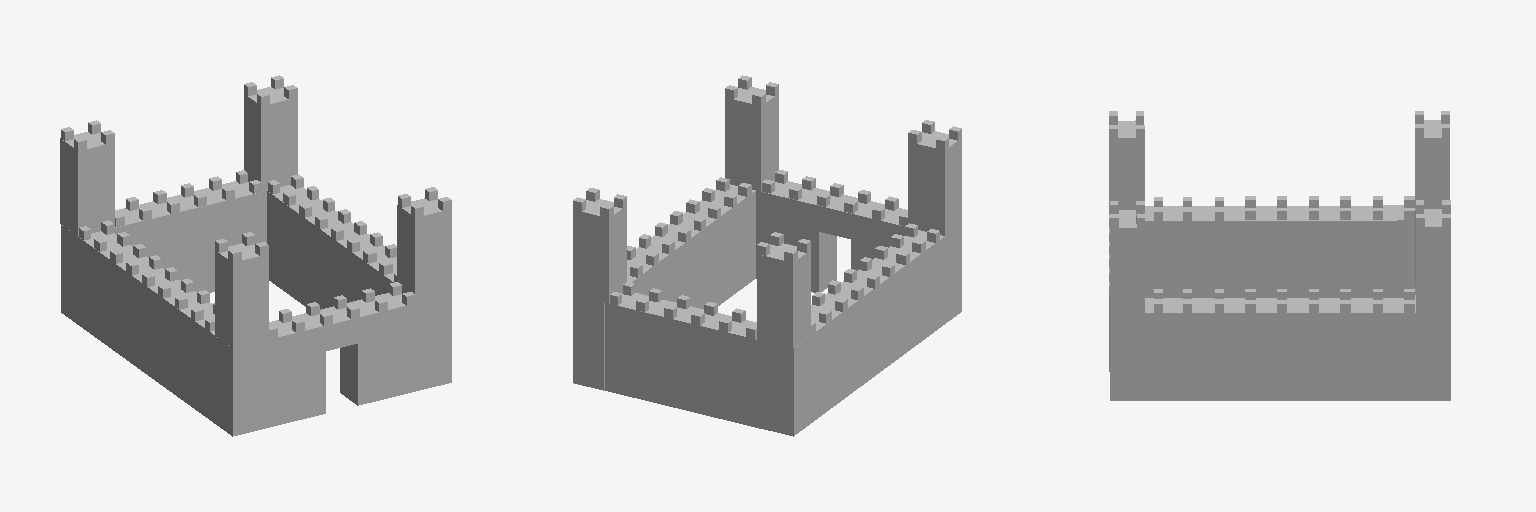
File: castleSmooth.obj
The picture shows the model from 3 angles: view 1: azimuth 30°, elevation 25°; view 2: azimuth 150°, elevation 25°; view 3: azimuth 270°, elevation 25°; orthographic projection.
Visible parts, largest first — view 1: Cube; view 2: Cube; view 3: Cube.
Part boxes in pixels (bbox=[...]): Cube: bbox=[60, 75, 451, 436]; Cube: bbox=[573, 75, 961, 436]; Cube: bbox=[1109, 111, 1450, 400].
Bounding box in the file's own units: 14.35 × 11.34 × 19.25.